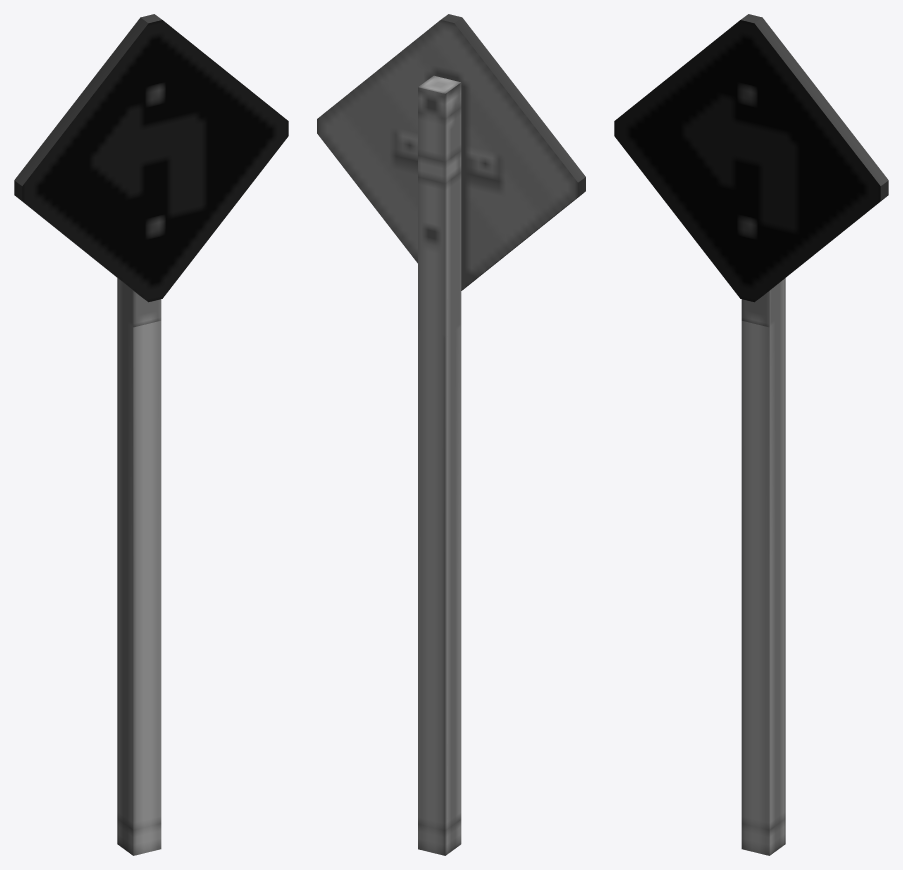
The model's file is Sign_GoLeft.fbx.
3 renders of one model, left to right at view 1: azimuth 30°, elevation 25°; view 2: azimuth 150°, elevation 25°; view 3: azimuth 330°, elevation 25°, orthographic. The views are drawn at different scales.
Parts seen in each view (by area): view 1: Sign_GoLeft; view 2: Sign_GoLeft; view 3: Sign_GoLeft.
Boxes of the visible parts, left/top/right/bottom form: Sign_GoLeft: left=14, top=14, right=288, bottom=855; Sign_GoLeft: left=317, top=14, right=585, bottom=855; Sign_GoLeft: left=614, top=14, right=888, bottom=855.
Size of the model in its own units: 9.5 by 28.5 by 1.5.
